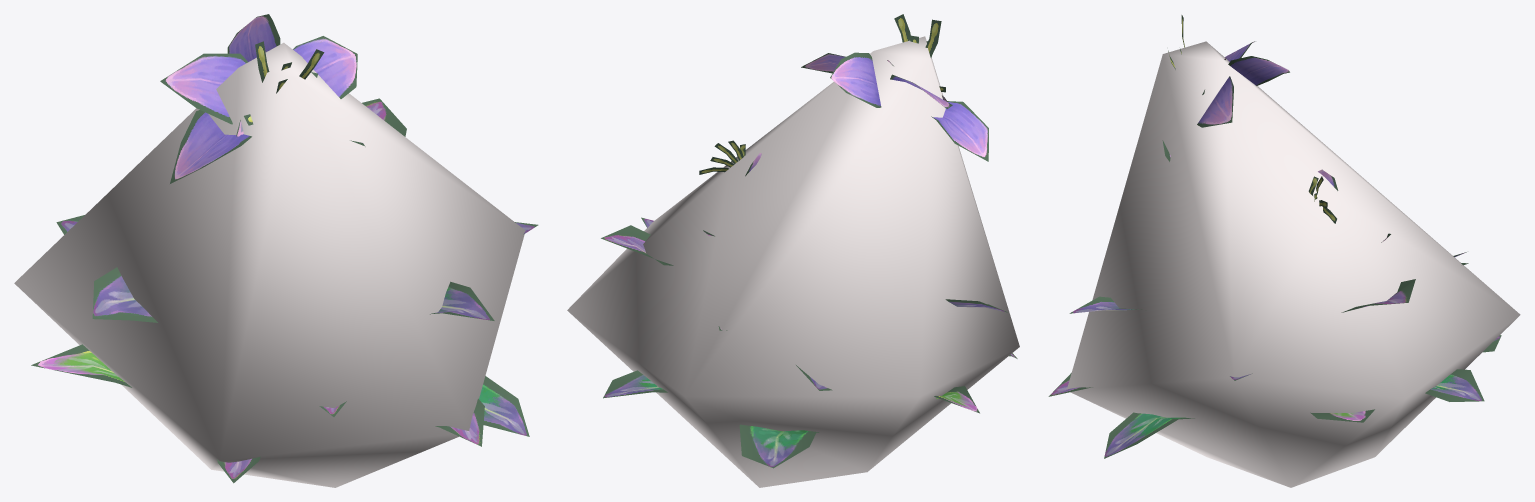
The model's file is Homeworld_Exterior_Xm_Flower_Grass_JuchangHuahui_01_Lod0.fbx.
The picture shows the model from 3 angles, left to right: view 1: azimuth 30°, elevation 25°; view 2: azimuth 150°, elevation 25°; view 3: azimuth 270°, elevation 25°; orthographic projection. The views are drawn at different scales.
Visible parts, largest first — view 1: EffectMesh, Area_Xm_Grass_Common_Zih_01_Lod0; view 2: EffectMesh, Area_Xm_Grass_Common_Zih_01_Lod0; view 3: EffectMesh, Area_Xm_Grass_Common_Zih_01_Lod0.
Boxes of the visible parts, x1,y1,x2,y2 form: EffectMesh: (14,42,525,487); Area_Xm_Grass_Common_Zih_01_Lod0: (31,14,538,483); EffectMesh: (567,36,1019,487); Area_Xm_Grass_Common_Zih_01_Lod0: (601,14,1017,468); EffectMesh: (1067,41,1520,487); Area_Xm_Grass_Common_Zih_01_Lod0: (1048,15,1501,458).
Size of the model in its own units: 2.2 by 2.25 by 2.37.
2 materials, 1 textured.
